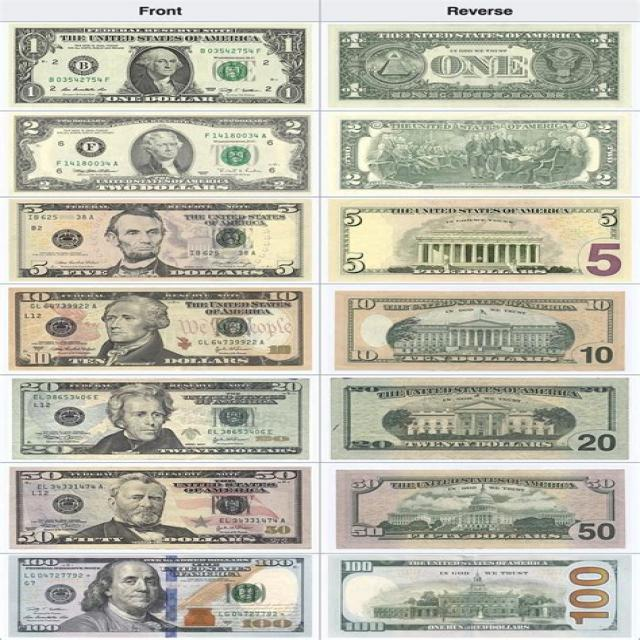Fifty: (11, 466, 312, 549), (336, 468, 626, 548)
Five: (327, 199, 631, 283), (13, 200, 313, 282)
Hundred: (8, 555, 312, 638), (330, 555, 629, 639)
One: (323, 24, 634, 108), (9, 26, 310, 109)
Ten: (333, 289, 627, 373), (11, 290, 313, 371)
Twenty: (12, 377, 311, 460), (330, 376, 630, 458)
Two: (327, 112, 628, 194), (11, 113, 313, 194)
